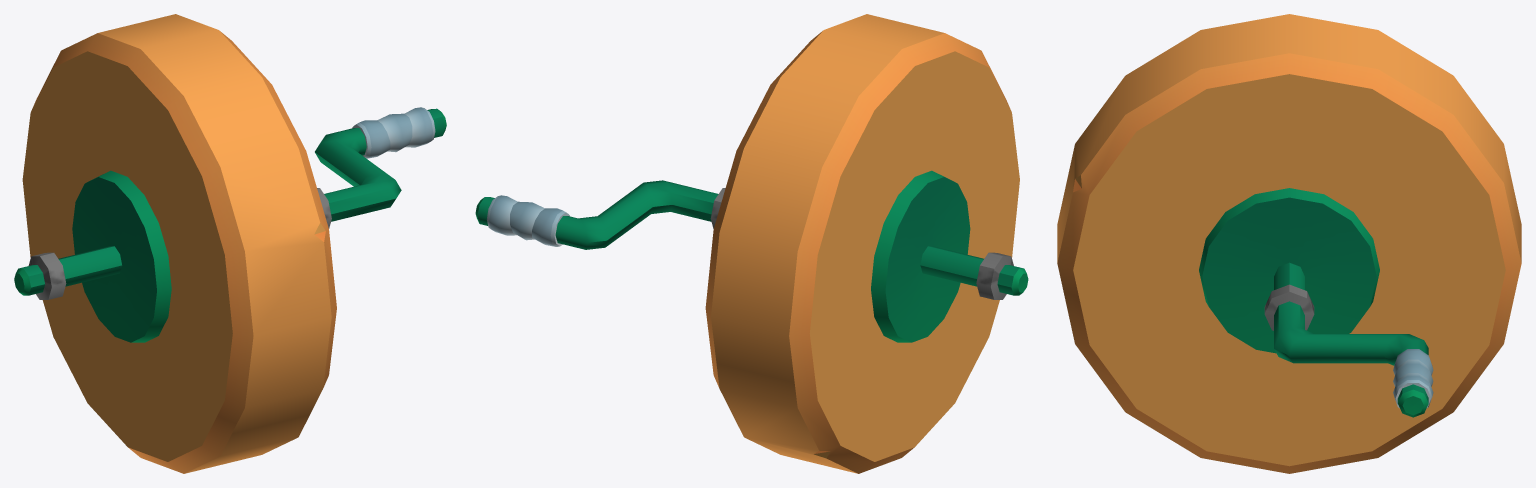
The model's file is grindstone_wheel.glb.
The picture shows the model from 3 angles, left to right: view 1: azimuth 30°, elevation 25°; view 2: azimuth 150°, elevation 25°; view 3: azimuth 270°, elevation 25°; orthographic projection. The views are drawn at different scales.
Parts seen in each view (by area): view 1: grindstone_wheel; view 2: grindstone_wheel; view 3: grindstone_wheel.
Boxes of the visible parts, <box> form: grindstone_wheel: <box>14,14,446,473</box>; grindstone_wheel: <box>475,14,1028,473</box>; grindstone_wheel: <box>1057,14,1521,473</box>.
Bounding box in the file's own units: 1.85 × 1.5 × 1.5.
Materials: 1 (1 with a texture image).
